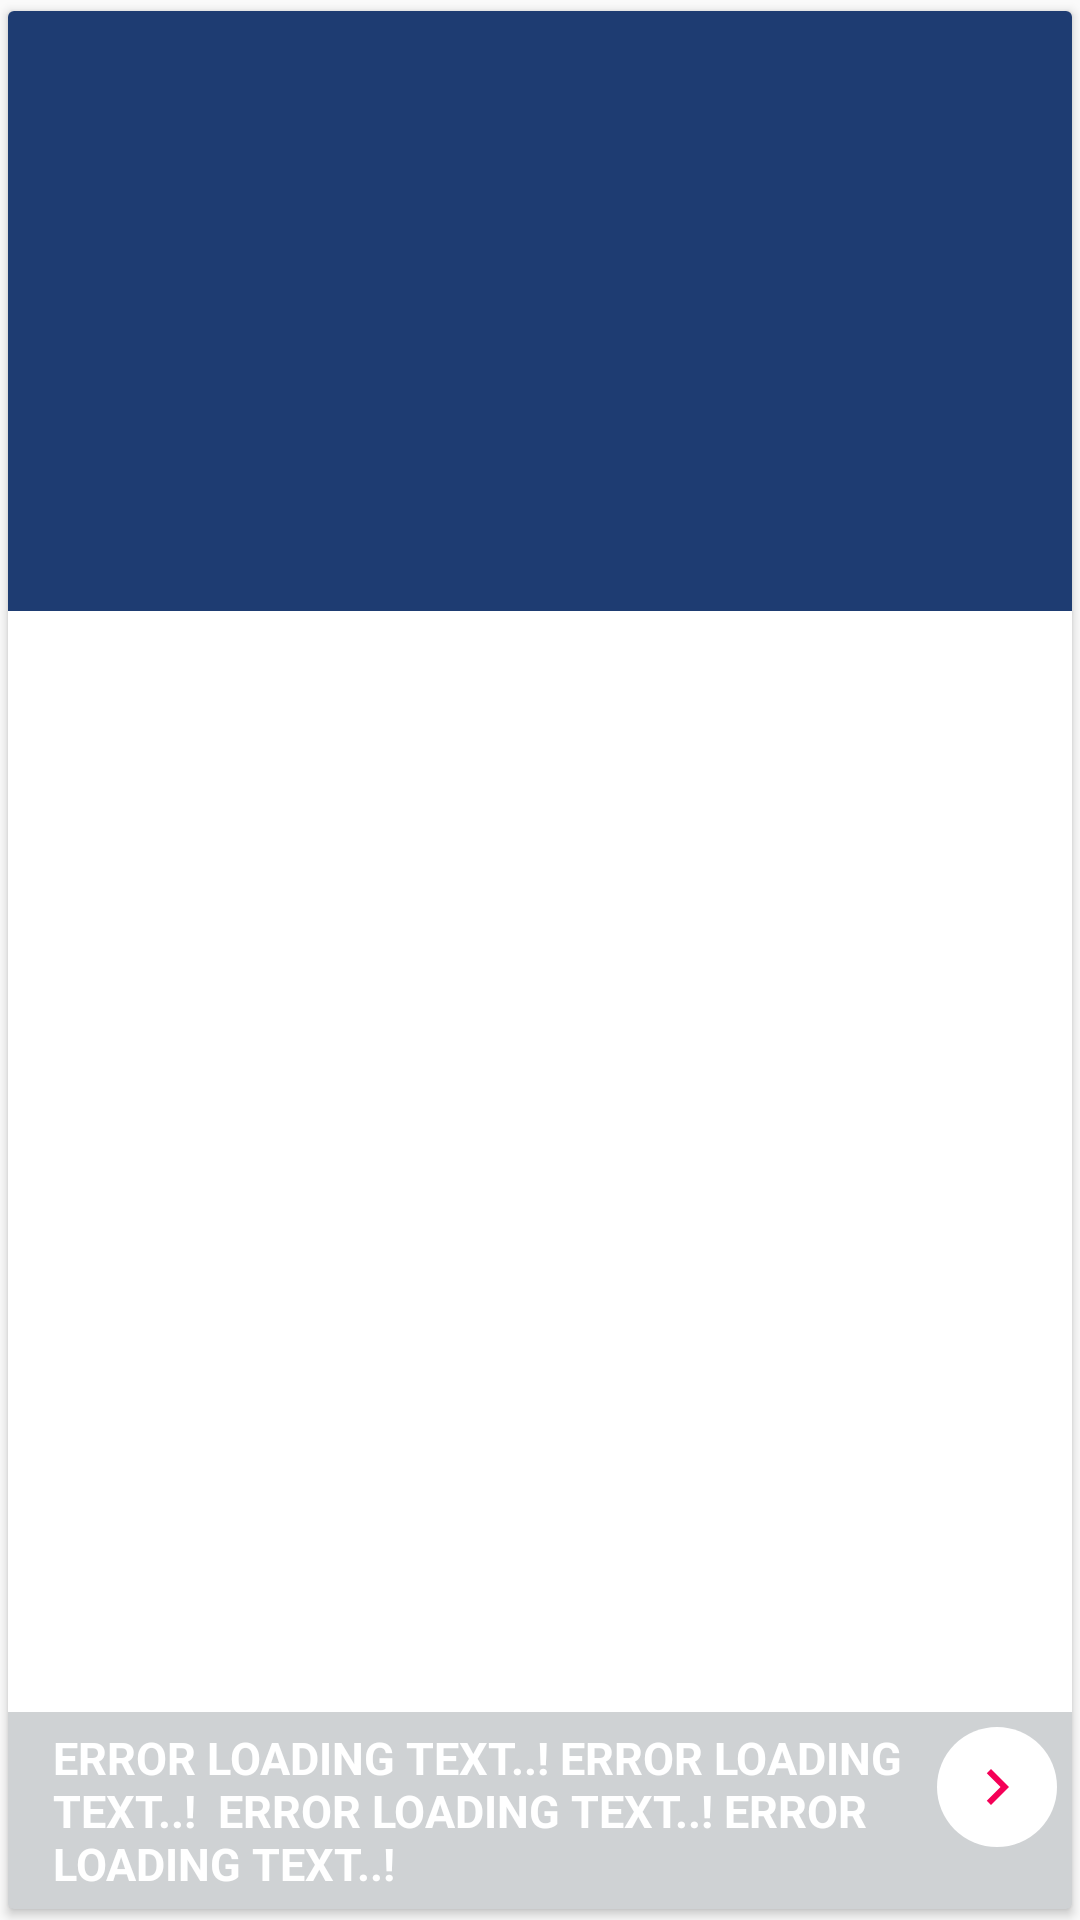

Icons on this 1080 × 1920 Android screen, each with the point to tap as (x,y):
right arrow: (997,1787)
